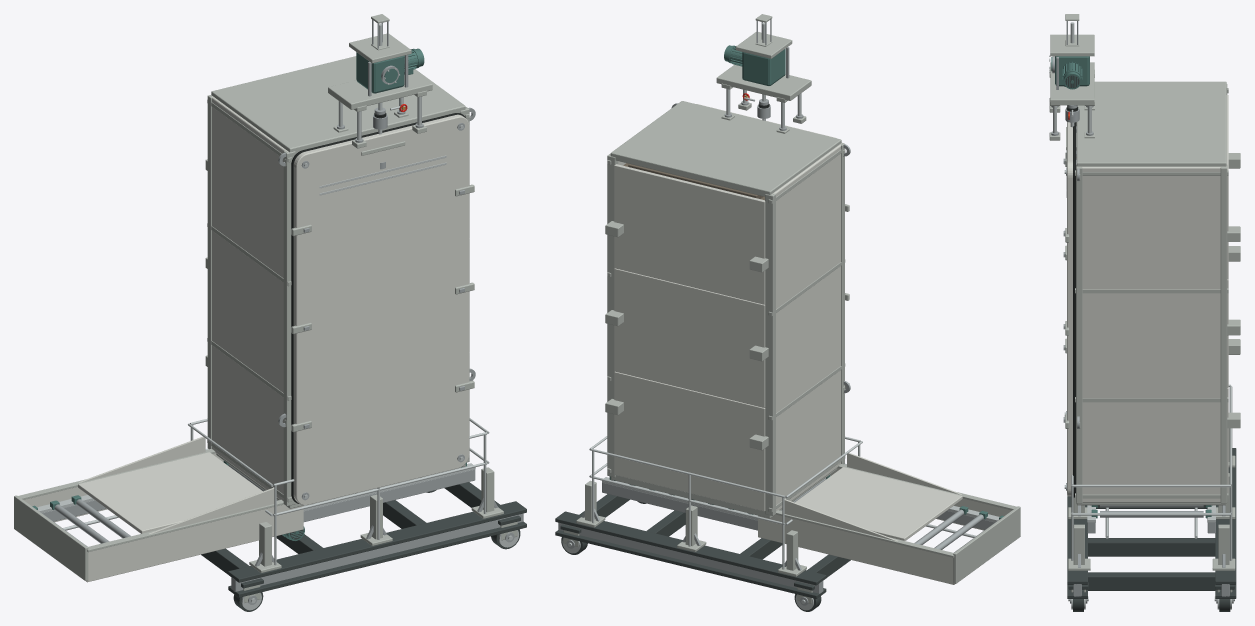
File: pit_furnace_4_v1.glb
3 views of the same model, side by side, from view 1: azimuth 30°, elevation 25°; view 2: azimuth 150°, elevation 25°; view 3: azimuth 270°, elevation 25° (orthographic). The views are drawn at different scales.
Visible parts, largest first — view 1: pf4_external_cover_front_v6_enamel, pf4_insulated_casing_v6_enamel, pf4_transfer_extension_v6_enamel, pf4_insulated_casing_v6_enamel_edge, pf4_mobile_chassis_v6_dark_structure, pf4_transfer_extension_v6_enamel_edge, pf4_transfer_extension_v6_brushed_metal, pf4_top_lift_drive_v6_enamel_edge, pf4_mobile_chassis_v6_brushed_metal, pf4_base_guardrails_v6_stainless, pf4_mobile_chassis_v6_enamel_edge, pf4_top_lift_drive_v6_motor_teal (+5 smaller); view 2: pf4_insulated_casing_v6_enamel, pf4_insulated_casing_v6_enamel_edge, pf4_transfer_extension_v6_enamel, pf4_mobile_chassis_v6_dark_structure, pf4_transfer_extension_v6_enamel_edge, pf4_top_lift_drive_v6_enamel_edge, pf4_transfer_extension_v6_brushed_metal, pf4_base_guardrails_v6_stainless, pf4_mobile_chassis_v6_brushed_metal, pf4_mobile_chassis_v6_enamel_edge, pf4_electric_heater_banks_v6_enamel_edge, pf4_top_lift_drive_v6_motor_teal (+2 smaller); view 3: pf4_insulated_casing_v6_enamel, pf4_insulated_casing_v6_enamel_edge, pf4_mobile_chassis_v6_dark_structure, pf4_top_lift_drive_v6_enamel_edge, pf4_external_cover_front_v6_enamel, pf4_base_guardrails_v6_stainless, pf4_mobile_chassis_v6_enamel_edge, pf4_electric_heater_banks_v6_enamel_edge, pf4_external_cover_front_v6_gasket, pf4_transfer_extension_v6_brushed_metal, pf4_top_lift_drive_v6_motor_teal, pf4_top_lift_drive_v6_brushed_metal (+3 smaller).
Boxes of the visible parts, box(x1,y1,x2,y2) form: pf4_external_cover_front_v6_enamel: box(293, 114, 469, 505); pf4_insulated_casing_v6_enamel: box(212, 96, 288, 500); pf4_transfer_extension_v6_enamel: box(23, 436, 303, 582); pf4_insulated_casing_v6_enamel_edge: box(207, 56, 469, 508); pf4_mobile_chassis_v6_dark_structure: box(201, 482, 526, 597); pf4_transfer_extension_v6_enamel_edge: box(14, 449, 283, 580); pf4_transfer_extension_v6_brushed_metal: box(37, 464, 475, 546); pf4_top_lift_drive_v6_enamel_edge: box(328, 14, 432, 148); pf4_mobile_chassis_v6_brushed_metal: box(231, 498, 523, 591); pf4_base_guardrails_v6_stainless: box(188, 418, 489, 565); pf4_mobile_chassis_v6_enamel_edge: box(249, 467, 503, 572); pf4_top_lift_drive_v6_motor_teal: box(356, 48, 424, 93); pf4_insulated_casing_v6_enamel: box(610, 143, 841, 511); pf4_insulated_casing_v6_enamel_edge: box(607, 101, 845, 518); pf4_transfer_extension_v6_enamel: box(758, 452, 1011, 584); pf4_mobile_chassis_v6_dark_structure: box(555, 494, 850, 598); pf4_transfer_extension_v6_enamel_edge: box(775, 464, 1020, 583); pf4_top_lift_drive_v6_enamel_edge: box(716, 14, 811, 133); pf4_transfer_extension_v6_brushed_metal: box(602, 478, 999, 552); pf4_base_guardrails_v6_stainless: box(589, 436, 862, 569); pf4_mobile_chassis_v6_brushed_metal: box(558, 509, 823, 593); pf4_mobile_chassis_v6_enamel_edge: box(576, 480, 806, 576); pf4_electric_heater_banks_v6_enamel_edge: box(605, 221, 768, 450); pf4_top_lift_drive_v6_motor_teal: box(724, 45, 785, 85); pf4_insulated_casing_v6_enamel: box(1078, 95, 1228, 502); pf4_insulated_casing_v6_enamel_edge: box(1075, 81, 1228, 505); pf4_mobile_chassis_v6_dark_structure: box(1067, 448, 1236, 598); pf4_top_lift_drive_v6_enamel_edge: box(1049, 14, 1094, 140); pf4_external_cover_front_v6_enamel: box(1067, 105, 1072, 496); pf4_base_guardrails_v6_stainless: box(1071, 384, 1232, 560); pf4_mobile_chassis_v6_enamel_edge: box(1068, 428, 1235, 570); pf4_electric_heater_banks_v6_enamel_edge: box(1227, 153, 1240, 428); pf4_external_cover_front_v6_gasket: box(1073, 122, 1075, 497); pf4_transfer_extension_v6_brushed_metal: box(1087, 505, 1215, 533); pf4_top_lift_drive_v6_motor_teal: box(1051, 56, 1089, 89); pf4_top_lift_drive_v6_brushed_metal: box(1051, 21, 1093, 159).
Size of the model in its own units: 5.45 by 6.77 by 2.19.
